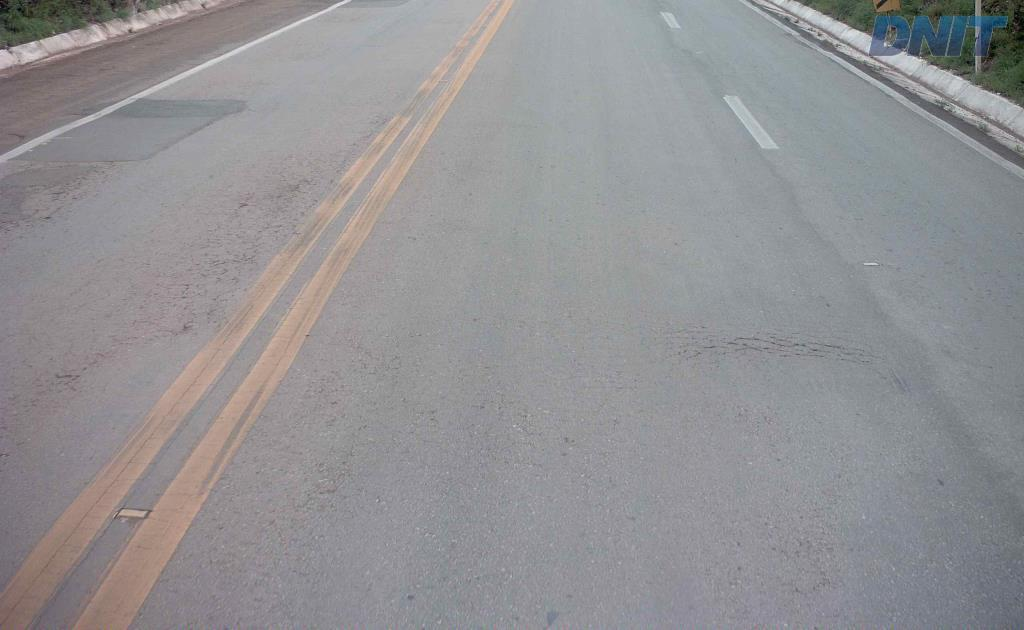crack: (734, 332, 834, 357)
